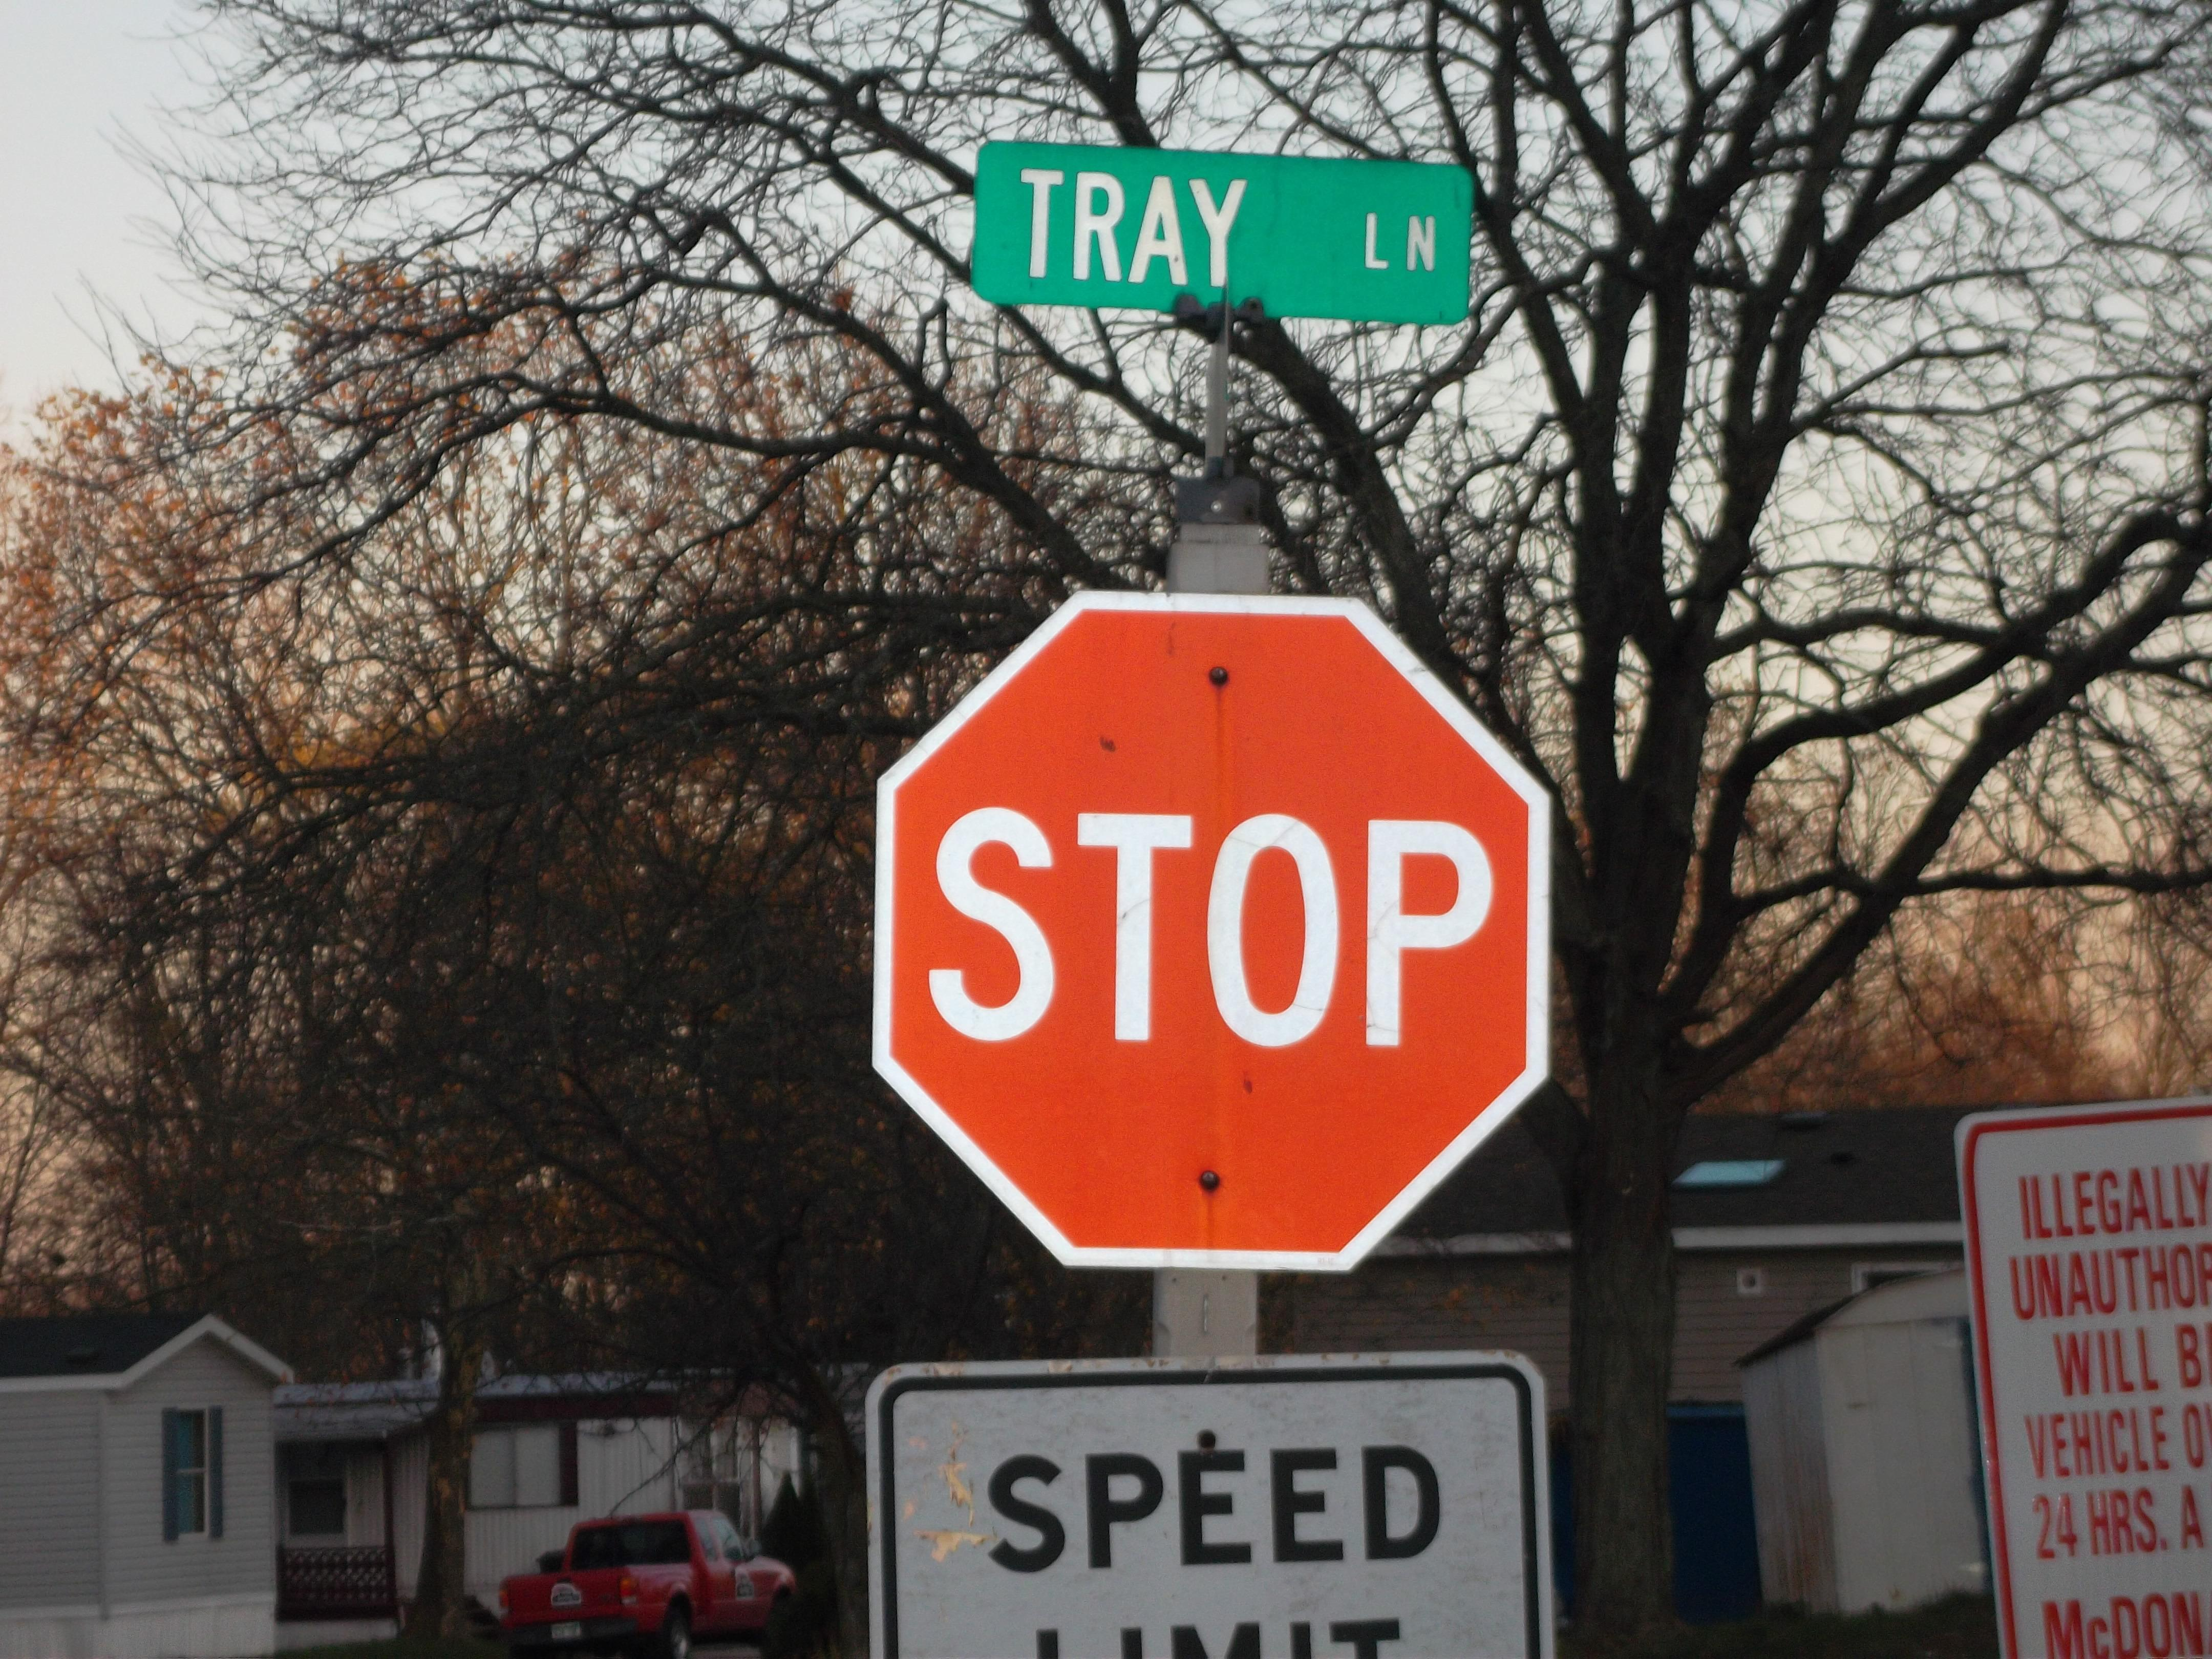stop: (873, 591, 1568, 1288)
